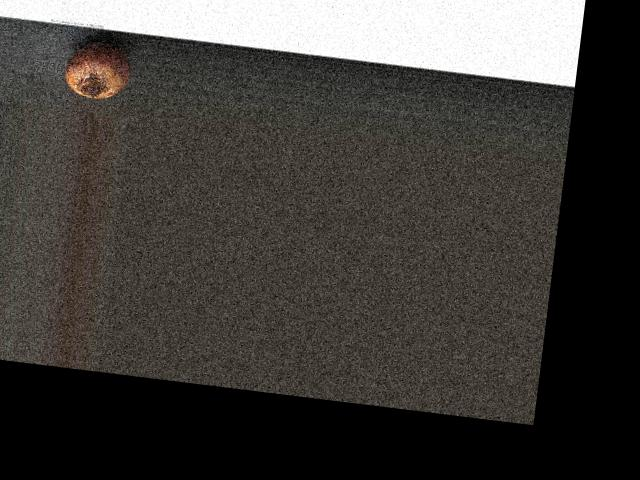beet: (63, 38, 135, 101)
